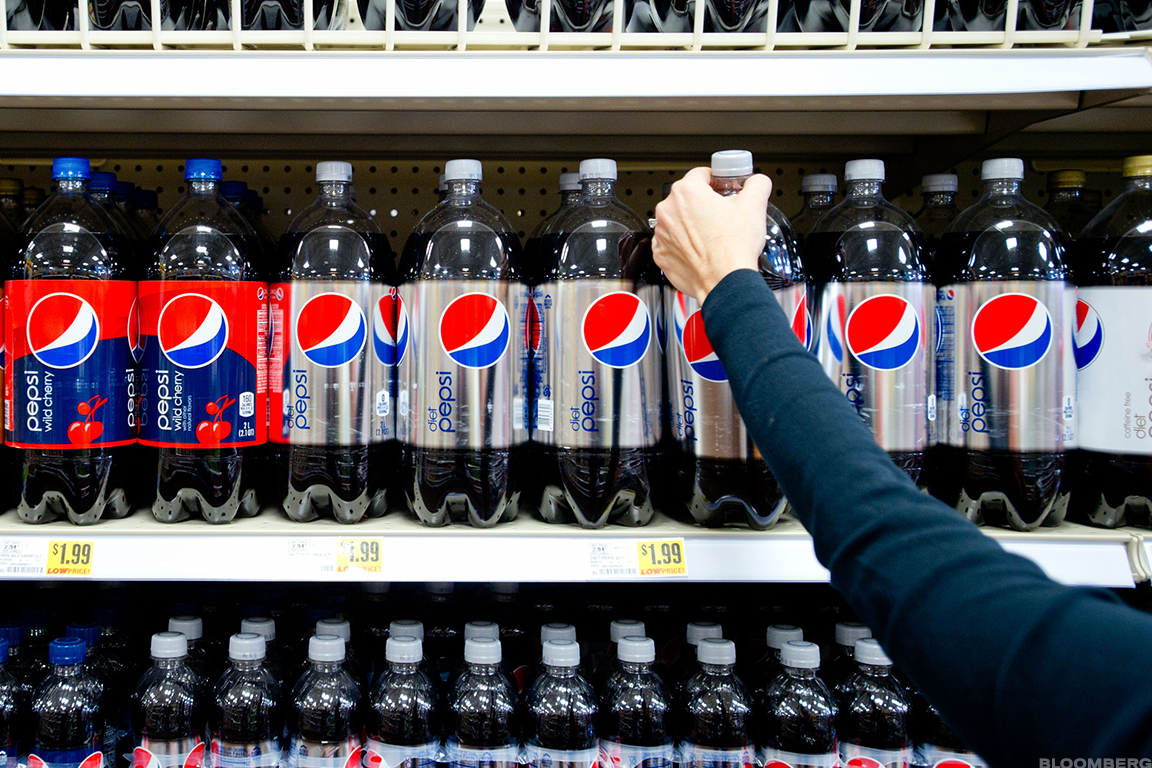pepsi: (971, 285, 1048, 366), (971, 288, 1048, 366), (439, 289, 509, 364), (581, 286, 648, 363), (29, 290, 95, 365), (849, 294, 916, 365), (297, 291, 363, 363), (161, 292, 222, 365), (683, 303, 725, 380), (374, 292, 407, 363), (1075, 291, 1102, 370)
